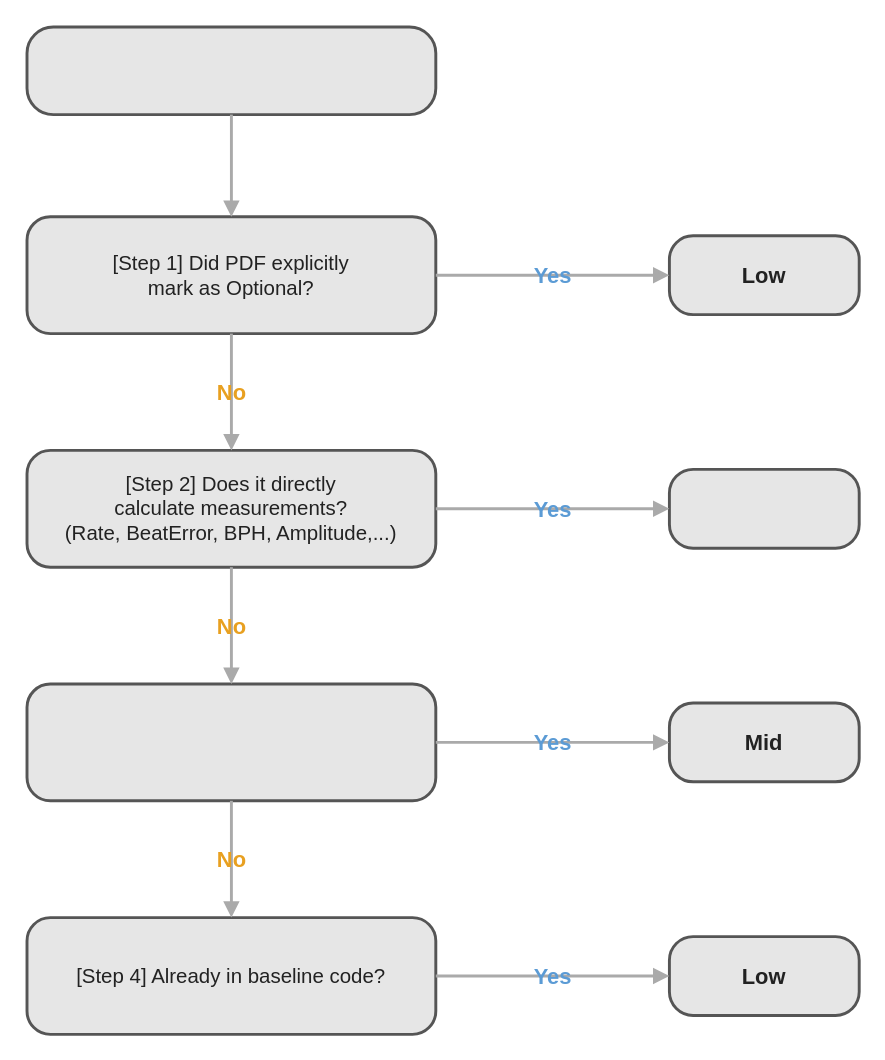
The diagram is 885 pixels wide and 1060 high, and some of its shapes have lost their labels. Here are the shapes that lost their labels. From the top down, the centre of each, then its label:
[231,70]: Start FR Evaluation
[763,508]: High
[231,742]: [Step 3] Is it core to visual/ performance/user interaction?
